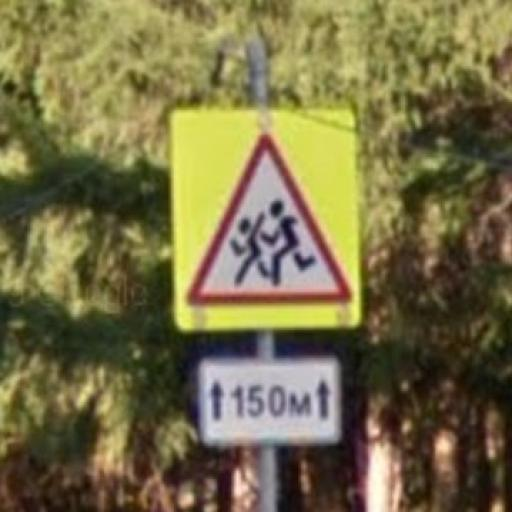traffic_sign: (181, 129, 358, 311)
